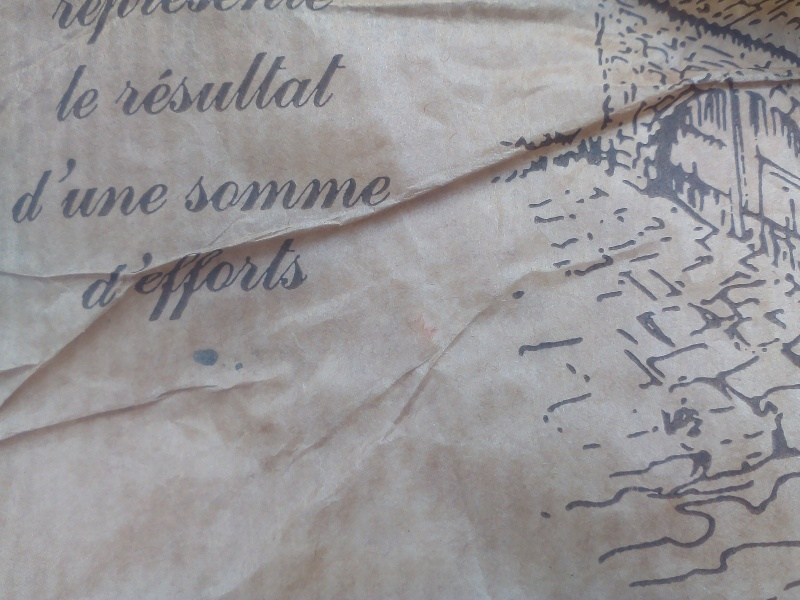text: (113, 227, 128, 336), (129, 227, 144, 336), (145, 227, 160, 336), (161, 227, 176, 336), (177, 227, 192, 336), (193, 227, 208, 336), (209, 227, 224, 336), (225, 227, 240, 336), (241, 227, 256, 336), (257, 227, 272, 336), (273, 227, 288, 336), (289, 227, 304, 336), (305, 227, 320, 336), (17, 152, 32, 225), (33, 152, 48, 225), (49, 152, 64, 225), (65, 152, 80, 225), (81, 152, 96, 225), (97, 152, 112, 225), (113, 152, 128, 225), (129, 152, 144, 225), (145, 152, 160, 225), (129, 47, 144, 118), (145, 47, 160, 118), (161, 47, 176, 118), (177, 47, 192, 118), (193, 47, 208, 118), (209, 47, 224, 118), (225, 47, 240, 118), (241, 47, 256, 118), (257, 47, 272, 118), (273, 47, 288, 118), (289, 47, 304, 118), (305, 47, 320, 118), (321, 47, 336, 118), (337, 47, 351, 118), (81, 63, 96, 125), (161, 152, 172, 225), (65, 1, 80, 45), (81, 1, 96, 45), (97, 1, 112, 45), (113, 1, 128, 45), (129, 1, 144, 45), (145, 1, 160, 45), (161, 1, 176, 45), (177, 1, 192, 45), (193, 1, 208, 45), (209, 1, 224, 45), (225, 1, 240, 45), (241, 1, 256, 45), (257, 1, 272, 45), (273, 1, 288, 45), (289, 1, 304, 45), (305, 1, 320, 45), (321, 1, 336, 45), (106, 227, 112, 336), (119, 47, 128, 118), (193, 172, 208, 213), (209, 172, 224, 213), (225, 172, 240, 213), (241, 172, 256, 213), (257, 172, 272, 213), (273, 172, 288, 213), (289, 172, 304, 213), (305, 172, 320, 213), (321, 172, 336, 213), (337, 172, 352, 213), (353, 172, 368, 213), (369, 172, 384, 213), (51, 1, 64, 45), (321, 227, 326, 336), (385, 172, 394, 213), (337, 1, 344, 45), (186, 172, 192, 213), (13, 152, 16, 225), (77, 63, 80, 125), (97, 63, 100, 125)
